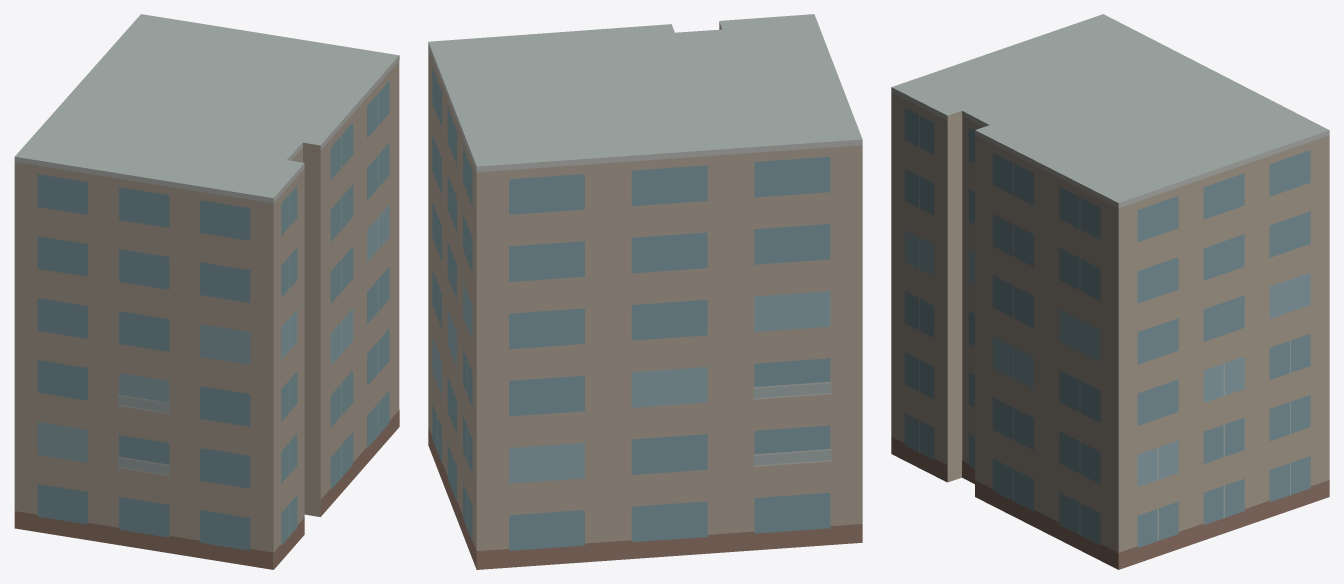
File: survey-upis-32864716.glb
3 renders of one model, left to right at view 1: azimuth 30°, elevation 25°; view 2: azimuth 150°, elevation 25°; view 3: azimuth 270°, elevation 25°, orthographic. The views are drawn at different scales.
Parts seen in each view (by area): view 1: survey-upis-32864716.tmp; view 2: survey-upis-32864716.tmp; view 3: survey-upis-32864716.tmp.
Part boxes in pixels (<box>): survey-upis-32864716.tmp: <box>14,14,399,569</box>; survey-upis-32864716.tmp: <box>428,14,862,569</box>; survey-upis-32864716.tmp: <box>891,14,1329,569</box>.
Size of the model in its own units: 19.13 by 17.3 by 18.73.
